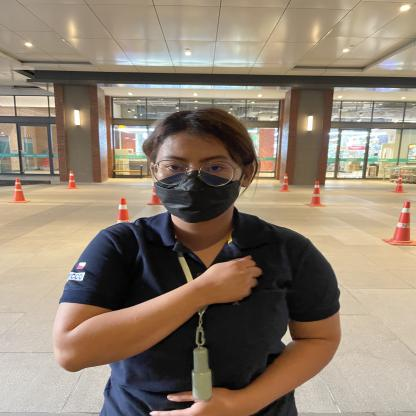Sadness: (50, 250, 299, 376)
